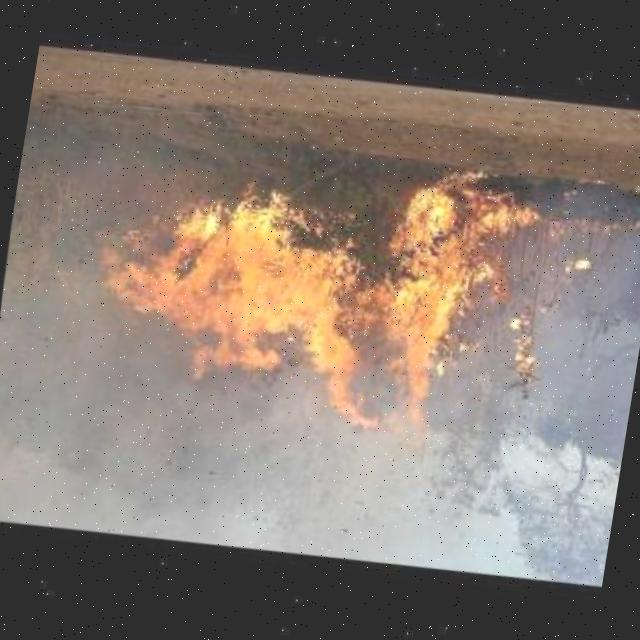fire: (82, 143, 527, 473)
